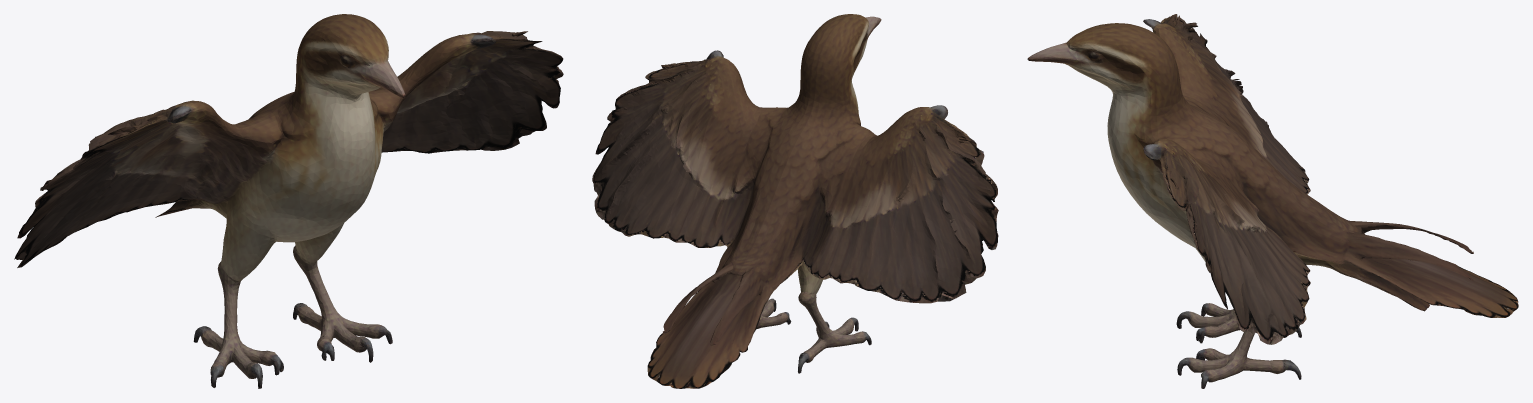
3 views of the same model, side by side, from view 1: azimuth 30°, elevation 25°; view 2: azimuth 150°, elevation 25°; view 3: azimuth 270°, elevation 25° (orthographic). The views are drawn at different scales.
Parts seen in each view (by area): view 1: world; view 2: world; view 3: world.
Part boxes in pixels (box(x1,y1,x2,y2)): world: box(14, 14, 563, 388); world: box(592, 14, 998, 388); world: box(1027, 14, 1518, 388).
Bounding box in the file's own units: 0.983 × 0.6741 × 0.9037.
Materials: 1 (1 with a texture image).
